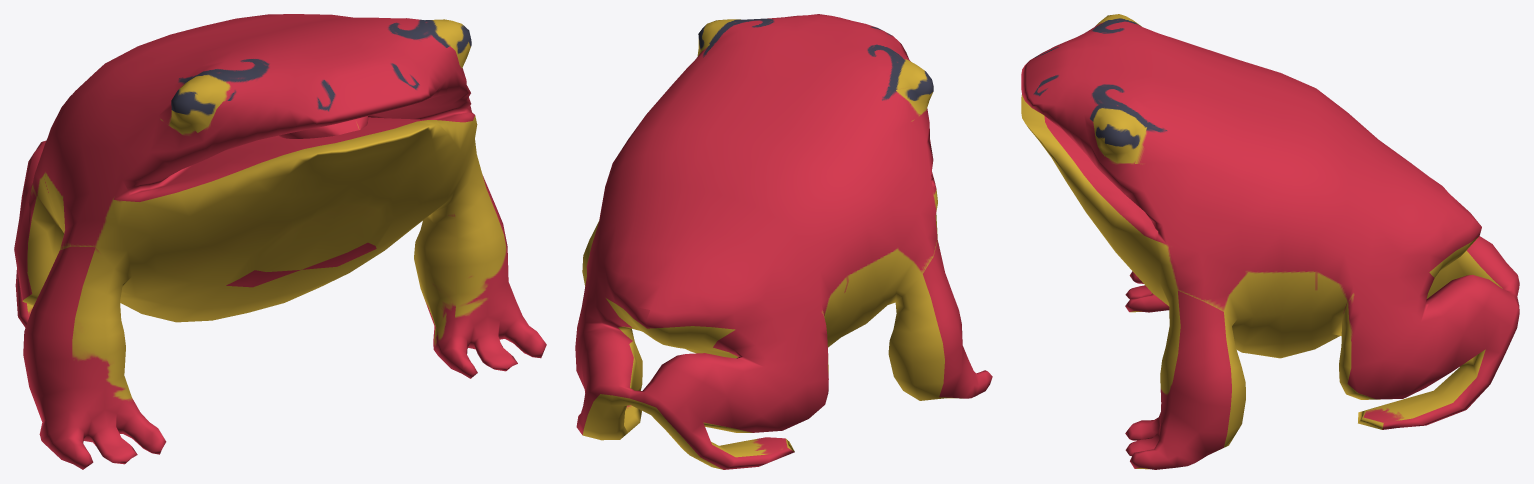
The model's file is Frogmodel.fbx.
3 views of the same model, side by side, from view 1: azimuth 30°, elevation 25°; view 2: azimuth 150°, elevation 25°; view 3: azimuth 270°, elevation 25° (orthographic). The views are drawn at different scales.
Visible parts, largest first — view 1: pCube1; view 2: pCube1; view 3: pCube1.
Part boxes in pixels (x1=…): pCube1: x1=14, y1=14, x2=546, y2=469; pCube1: x1=575, y1=14, x2=992, y2=469; pCube1: x1=1021, y1=14, x2=1519, y2=469.
Bounding box in the file's own units: 1476 × 1153 × 1594.
1 material, 1 textured.
